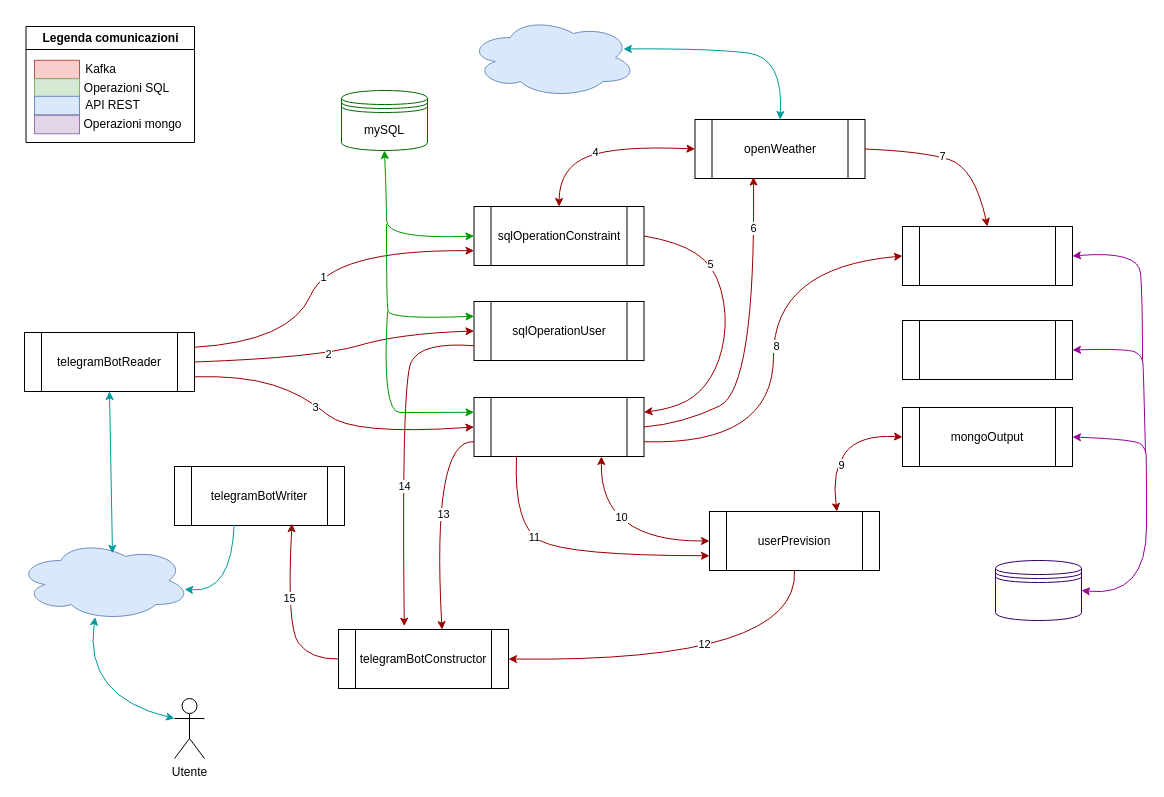
This 1164x797 diagram has some shape labels left out. The centre of each missing label's shape, as x and y in pixels:
"mongoDB" belongs at point (1038, 590).
"mongoInput" belongs at point (987, 256).
"mongoUpdater" belongs at point (987, 350).
"openWeather API" belongs at point (552, 57).
"sqlOperationList" belongs at point (558, 426).
"telegram BOT API" belongs at point (103, 580).
